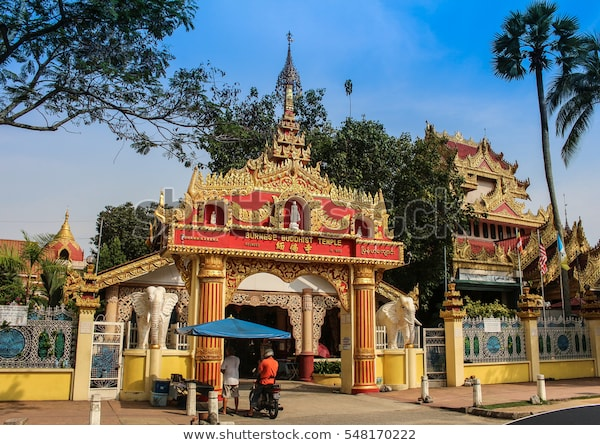Buddhist Temple: (154, 88, 379, 402)
